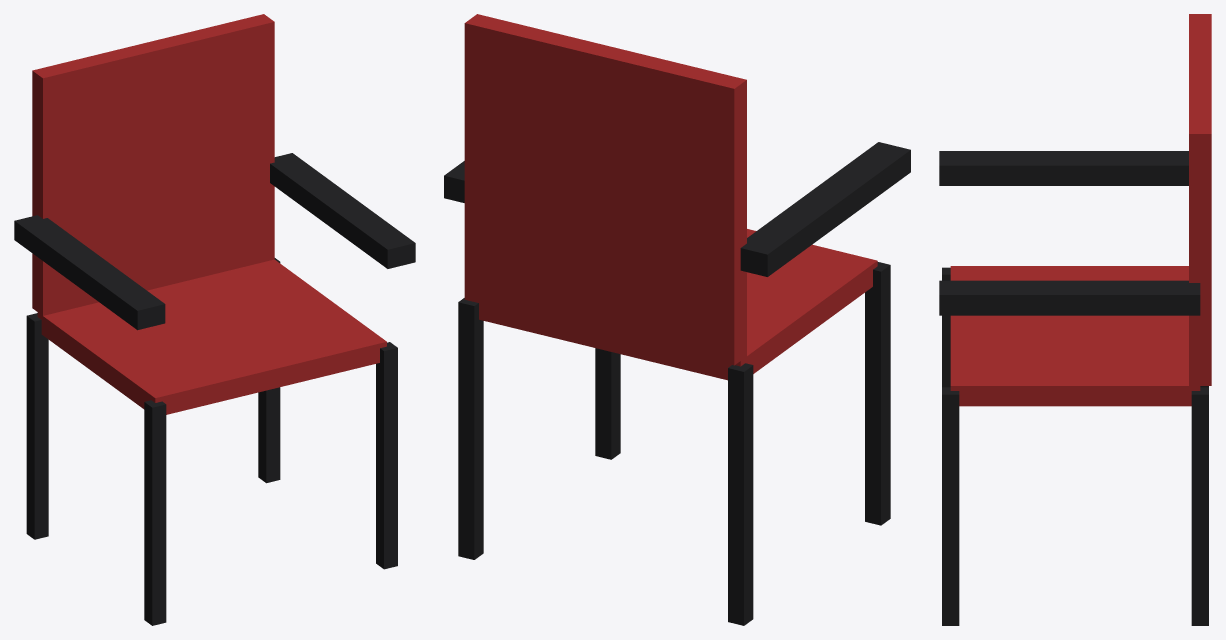
Rendered from chair_red.dae.
3 views of the same model, side by side, from view 1: azimuth 30°, elevation 25°; view 2: azimuth 150°, elevation 25°; view 3: azimuth 270°, elevation 25° (orthographic). The views are drawn at different scales.
Visible parts, largest first — view 1: marker; view 2: marker; view 3: marker.
Part boxes in pixels (<box>): marker: <box>14,14,415,625</box>; marker: <box>444,14,910,625</box>; marker: <box>939,14,1211,625</box>.
Size of the model in its own units: 0.6 by 0.48 by 0.95.
Materials: 1 (1 with a texture image).
